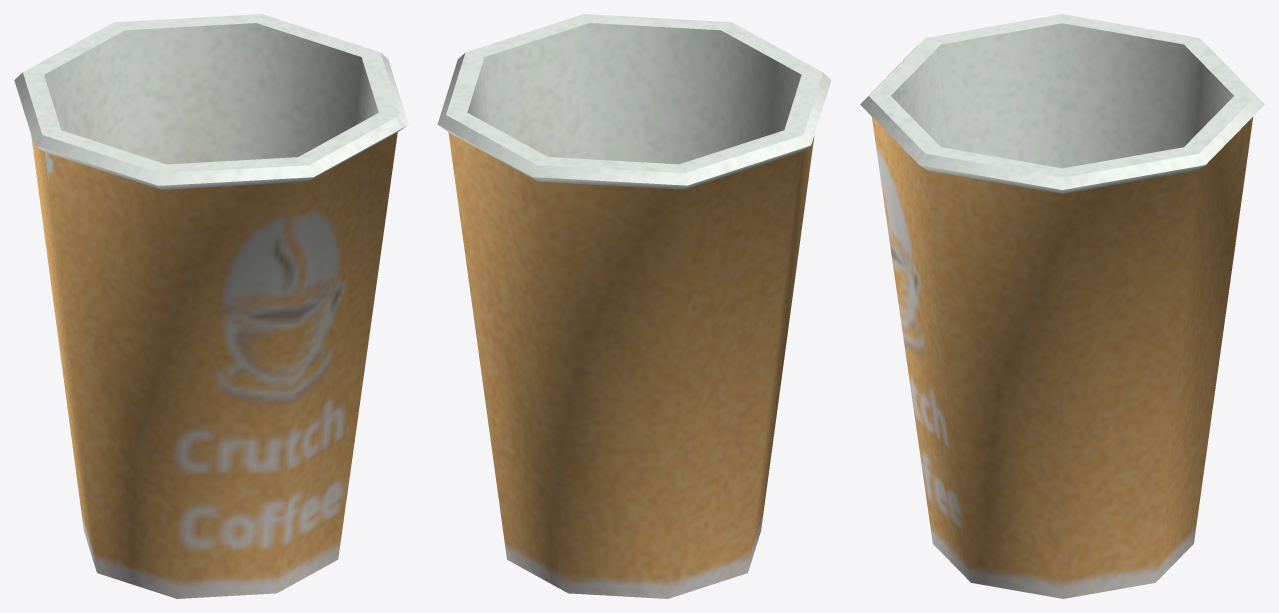
Rendered from coffeeCup.fbx.
3 views of the same model, side by side, from view 1: azimuth 30°, elevation 25°; view 2: azimuth 150°, elevation 25°; view 3: azimuth 270°, elevation 25° (orthographic).
Parts seen in each view (by area): view 1: CoffeeCup; view 2: CoffeeCup; view 3: CoffeeCup.
Part boxes in pixels (left/top/right/bottom): CoffeeCup: left=14, top=14, right=408, bottom=598; CoffeeCup: left=437, top=14, right=831, bottom=598; CoffeeCup: left=860, top=14, right=1264, bottom=598.
Bounding box in the file's own units: 147 × 179 × 147.
